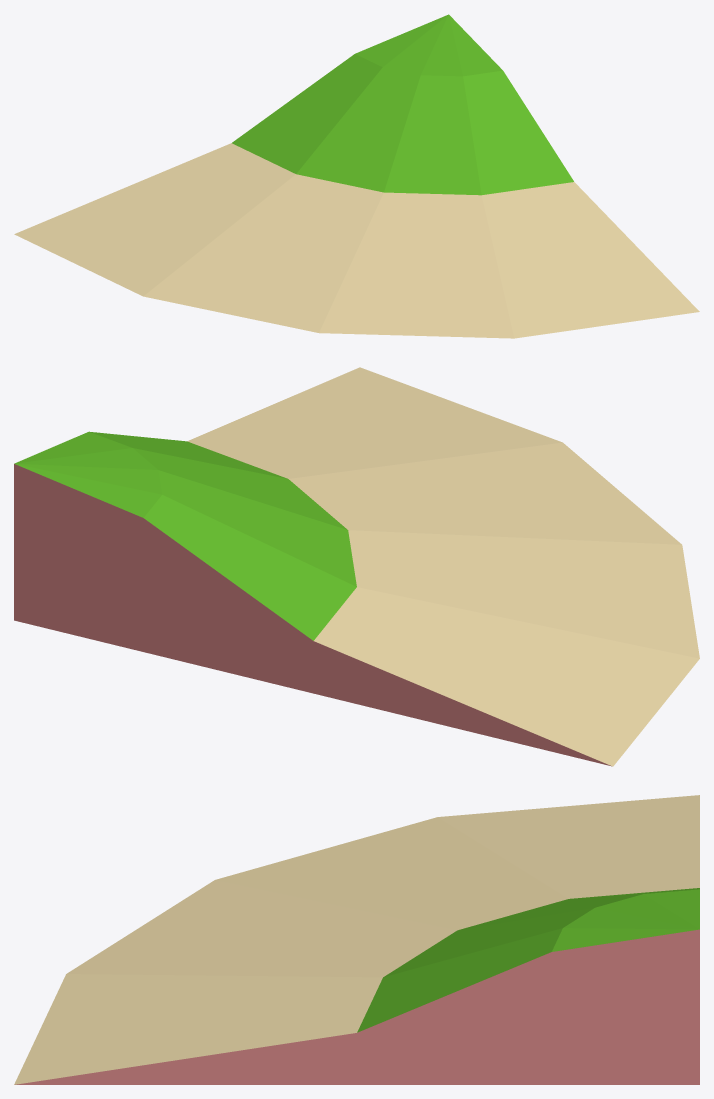
File: Path_Terrain_Basic_Curve_Outer_1x1.glb
3 renders of one model, top to bottom at view 1: azimuth 30°, elevation 25°; view 2: azimuth 150°, elevation 25°; view 3: azimuth 270°, elevation 25°, orthographic. The views are drawn at different scales.
Parts seen in each view (by area): view 1: Path_Terrain_Basic_Curve_Outer_1x1; view 2: Path_Terrain_Basic_Curve_Outer_1x1; view 3: Path_Terrain_Basic_Curve_Outer_1x1.
Boxes of the visible parts, x1,y1,x2,y2 form: Path_Terrain_Basic_Curve_Outer_1x1: (14, 14, 699, 338); Path_Terrain_Basic_Curve_Outer_1x1: (14, 367, 699, 766); Path_Terrain_Basic_Curve_Outer_1x1: (14, 795, 699, 1084).
Bounding box in the file's own units: 100 × 25 × 100.
